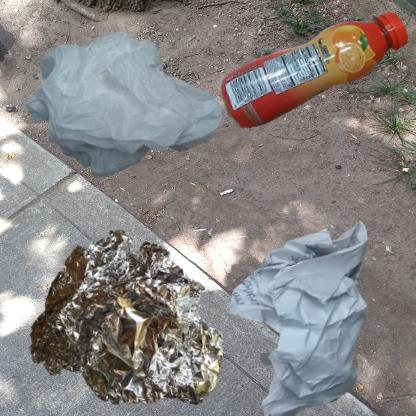aluminio: (10, 213, 239, 416)
bolsa: (10, 10, 259, 225)
botella: (213, 10, 416, 138)
papel: (213, 213, 416, 416)
